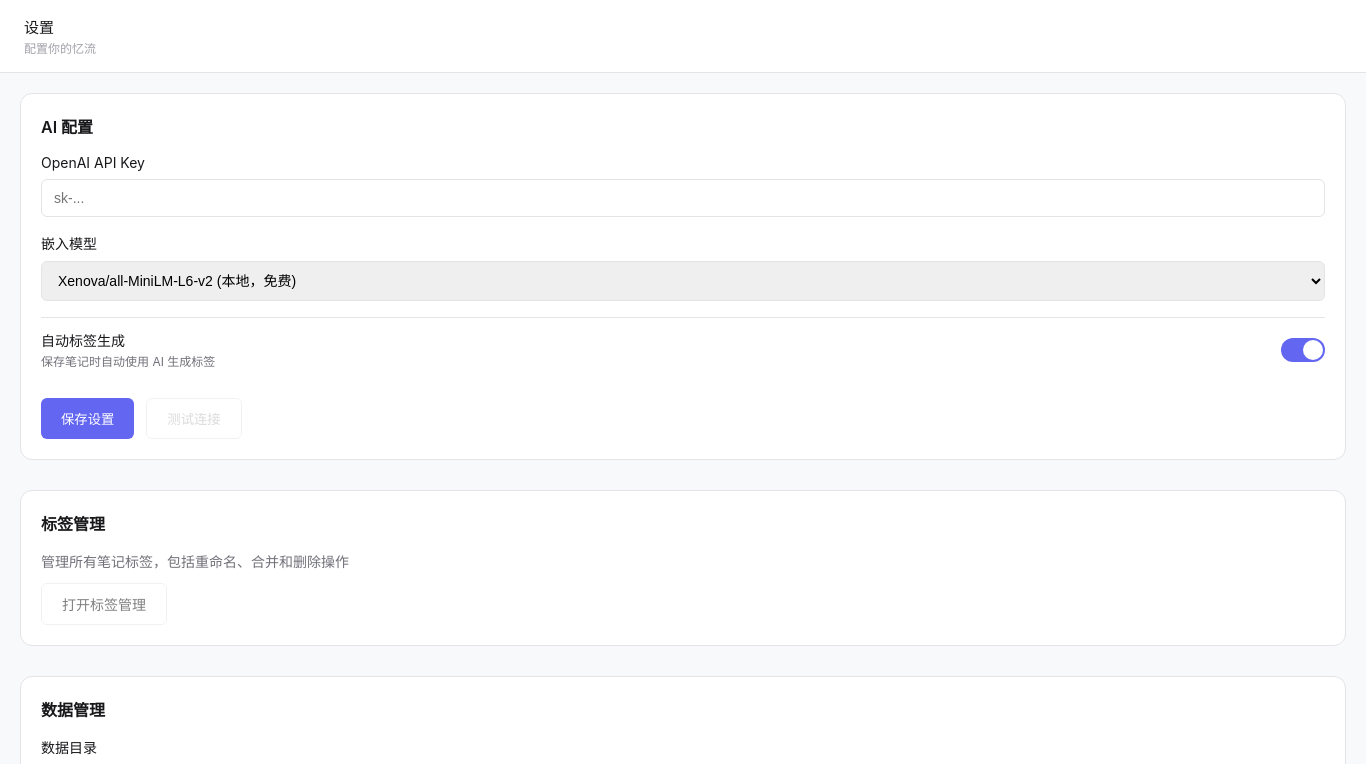
Test: Settings Component › should show success message after successful test
Type "sk-test123" into the password field with placeholder "sk-..." at [683, 198], box [41,179,1325,217]
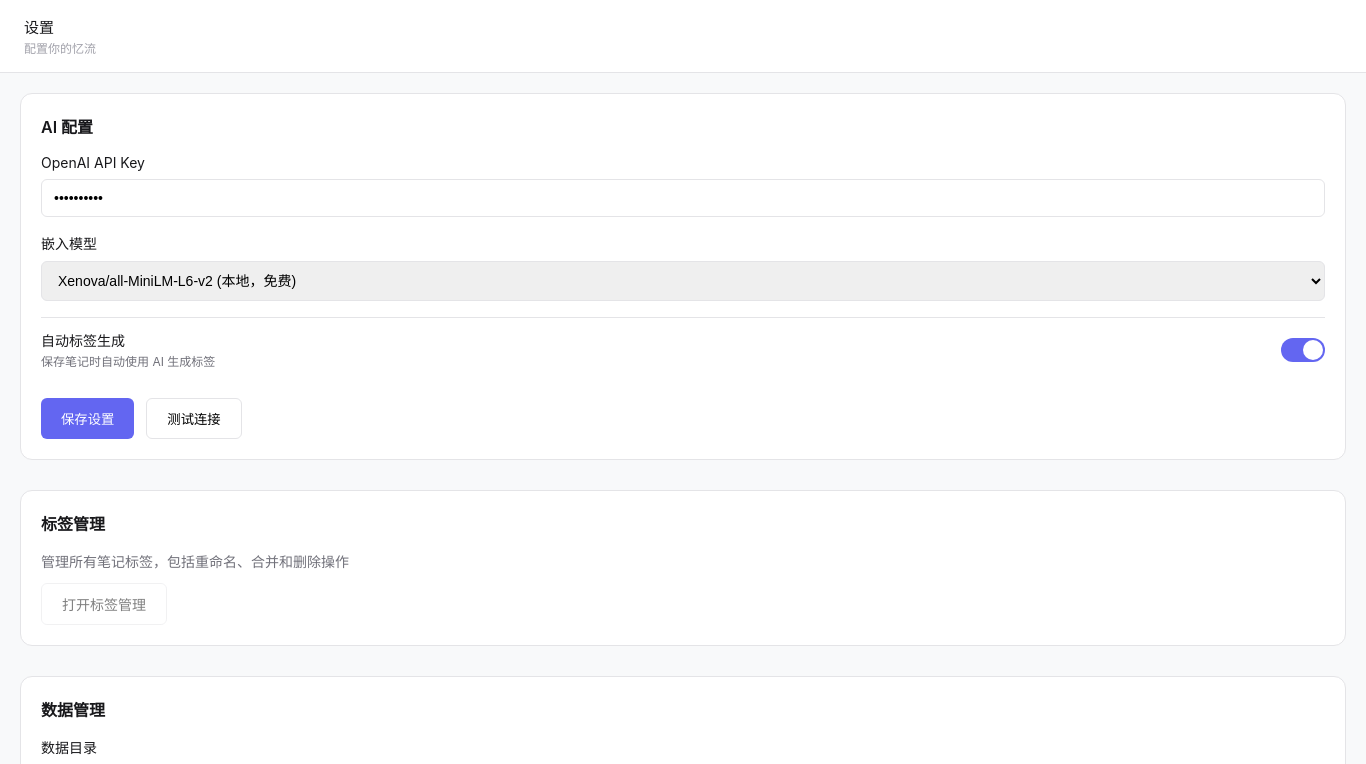
Click the button "测试连接" at [194, 418], box [146,398,242,439]
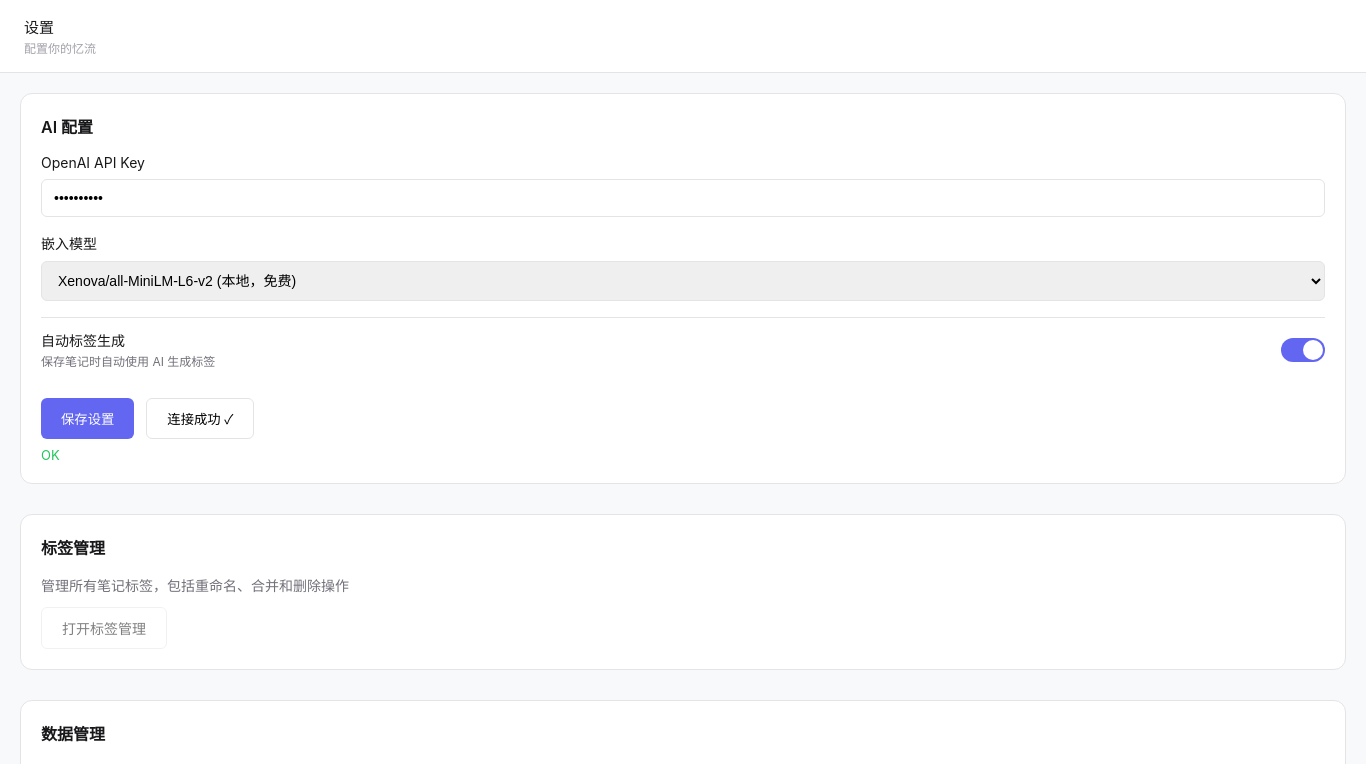
Check: the button "连接成功 ✓" is shown, box [146,398,254,439]
